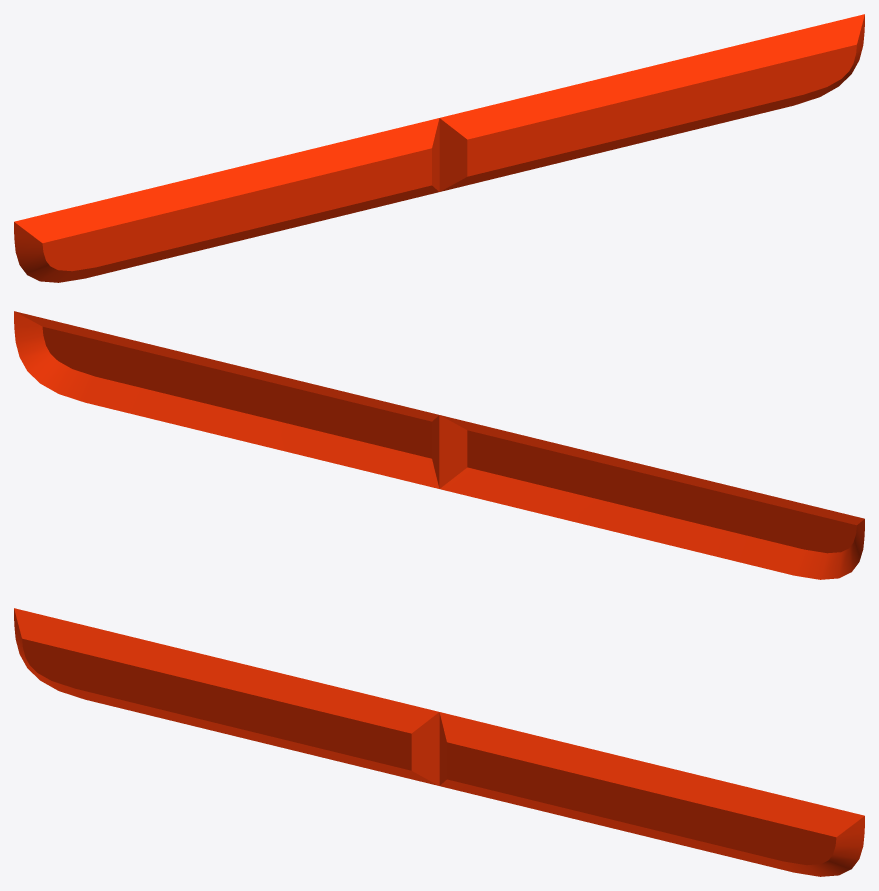
The model's file is Shield_Wings_01.fbx.
The picture shows the model from 3 angles, top to bottom: view 1: azimuth 30°, elevation 25°; view 2: azimuth 150°, elevation 25°; view 3: azimuth 330°, elevation 25°; orthographic projection.
Parts seen in each view (by area): view 1: Shield_Wings_01; view 2: Shield_Wings_01; view 3: Shield_Wings_01.
Boxes of the visible parts, x1,y1,x2,y2 form: Shield_Wings_01: (14, 14, 864, 282); Shield_Wings_01: (14, 311, 864, 579); Shield_Wings_01: (14, 608, 864, 876).
Bounding box in the file's own units: 1.2 × 0.1 × 0.025.
